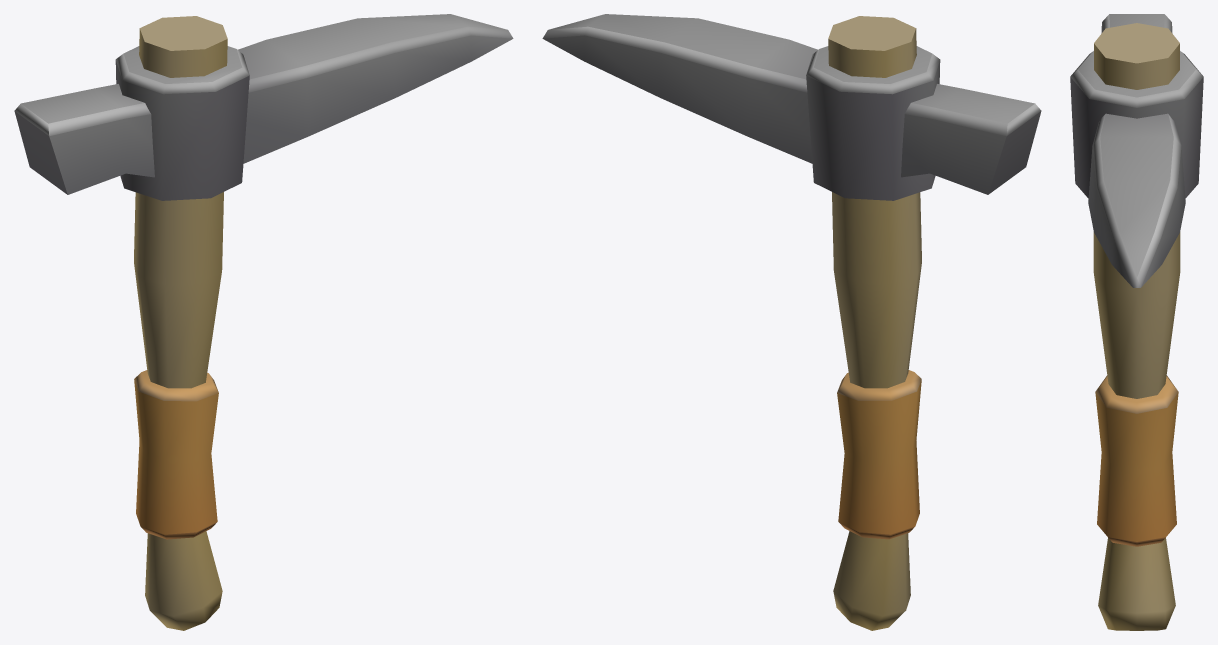
Rendered from MiningPick.glb.
The picture shows the model from 3 angles, left to right: view 1: azimuth 30°, elevation 25°; view 2: azimuth 150°, elevation 25°; view 3: azimuth 270°, elevation 25°; orthographic projection.
Parts seen in each view (by area): view 1: MiningPick; view 2: MiningPick; view 3: MiningPick.
Boxes of the visible parts, box(x1,y1,x2,y2) form: MiningPick: box(14, 14, 513, 630); MiningPick: box(542, 14, 1041, 630); MiningPick: box(1070, 14, 1203, 630).
Bounding box in the file's own units: 0.546 × 0.643 × 0.1312.
